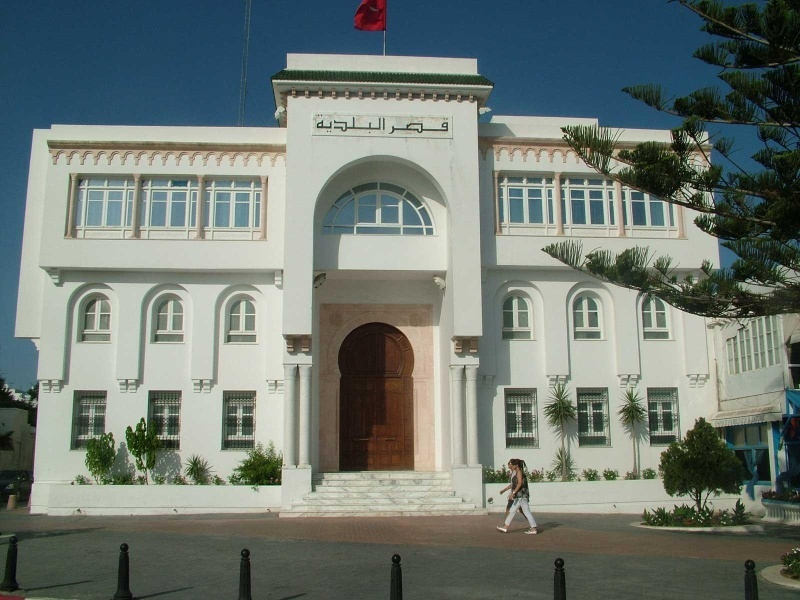text: (321, 114, 336, 134), (337, 114, 352, 134), (353, 114, 368, 134), (369, 114, 384, 134), (401, 117, 416, 136), (417, 117, 432, 136), (433, 117, 448, 136), (387, 117, 400, 136), (317, 114, 320, 134), (385, 114, 386, 134), (449, 117, 450, 136)
